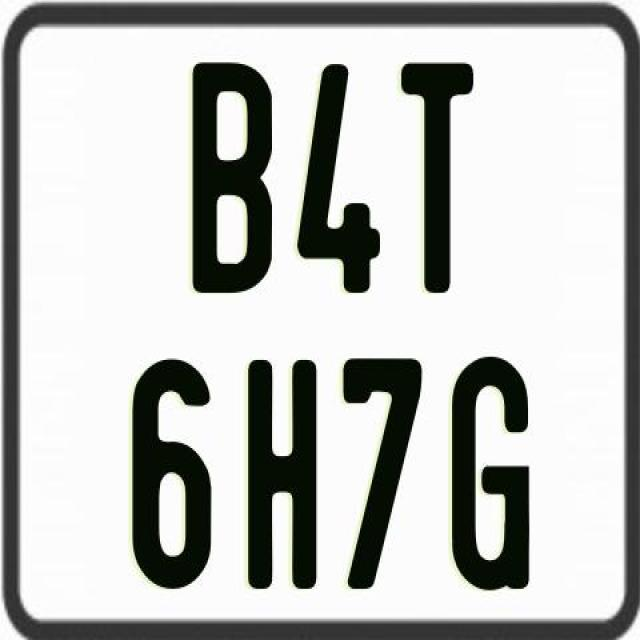4: (294, 64, 378, 301)
6: (130, 355, 214, 592)
7: (342, 356, 422, 590)
B: (189, 63, 271, 294)
G: (452, 357, 537, 596)
H: (245, 358, 315, 588)
T: (398, 61, 474, 294)
